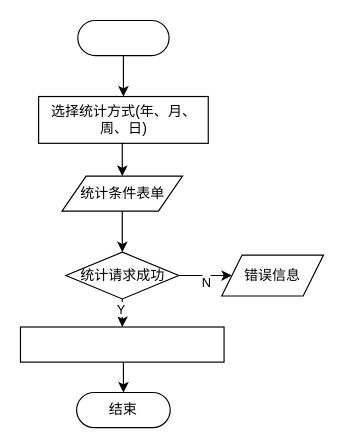
Image size: 344x448. Some labels were removed from this diagram. The box of each missing label's shape, as (x1, y1, x2, y2) in pixels:
开始: (77, 19, 169, 56)
更新数据大屏: (19, 326, 224, 362)
